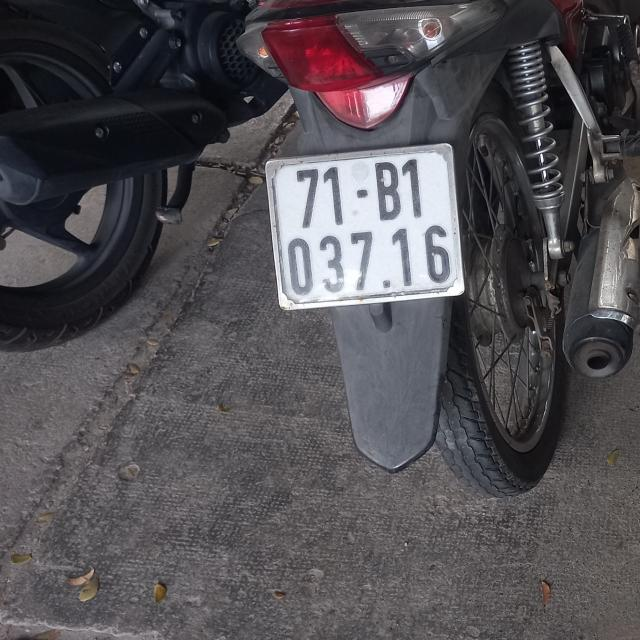0: (286, 236, 317, 301)
1: (400, 156, 428, 216), (320, 167, 346, 227), (391, 226, 412, 288)
3: (319, 234, 346, 294), (351, 229, 375, 295)
6: (424, 226, 448, 286)
7: (296, 167, 322, 229)
B: (374, 163, 405, 224)
